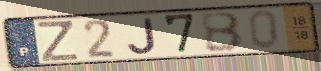0: (246, 8, 281, 51)
2: (83, 18, 117, 60)
7: (162, 13, 197, 56)
B: (198, 10, 245, 54)
J: (125, 16, 159, 56)
Z: (35, 19, 81, 63)
